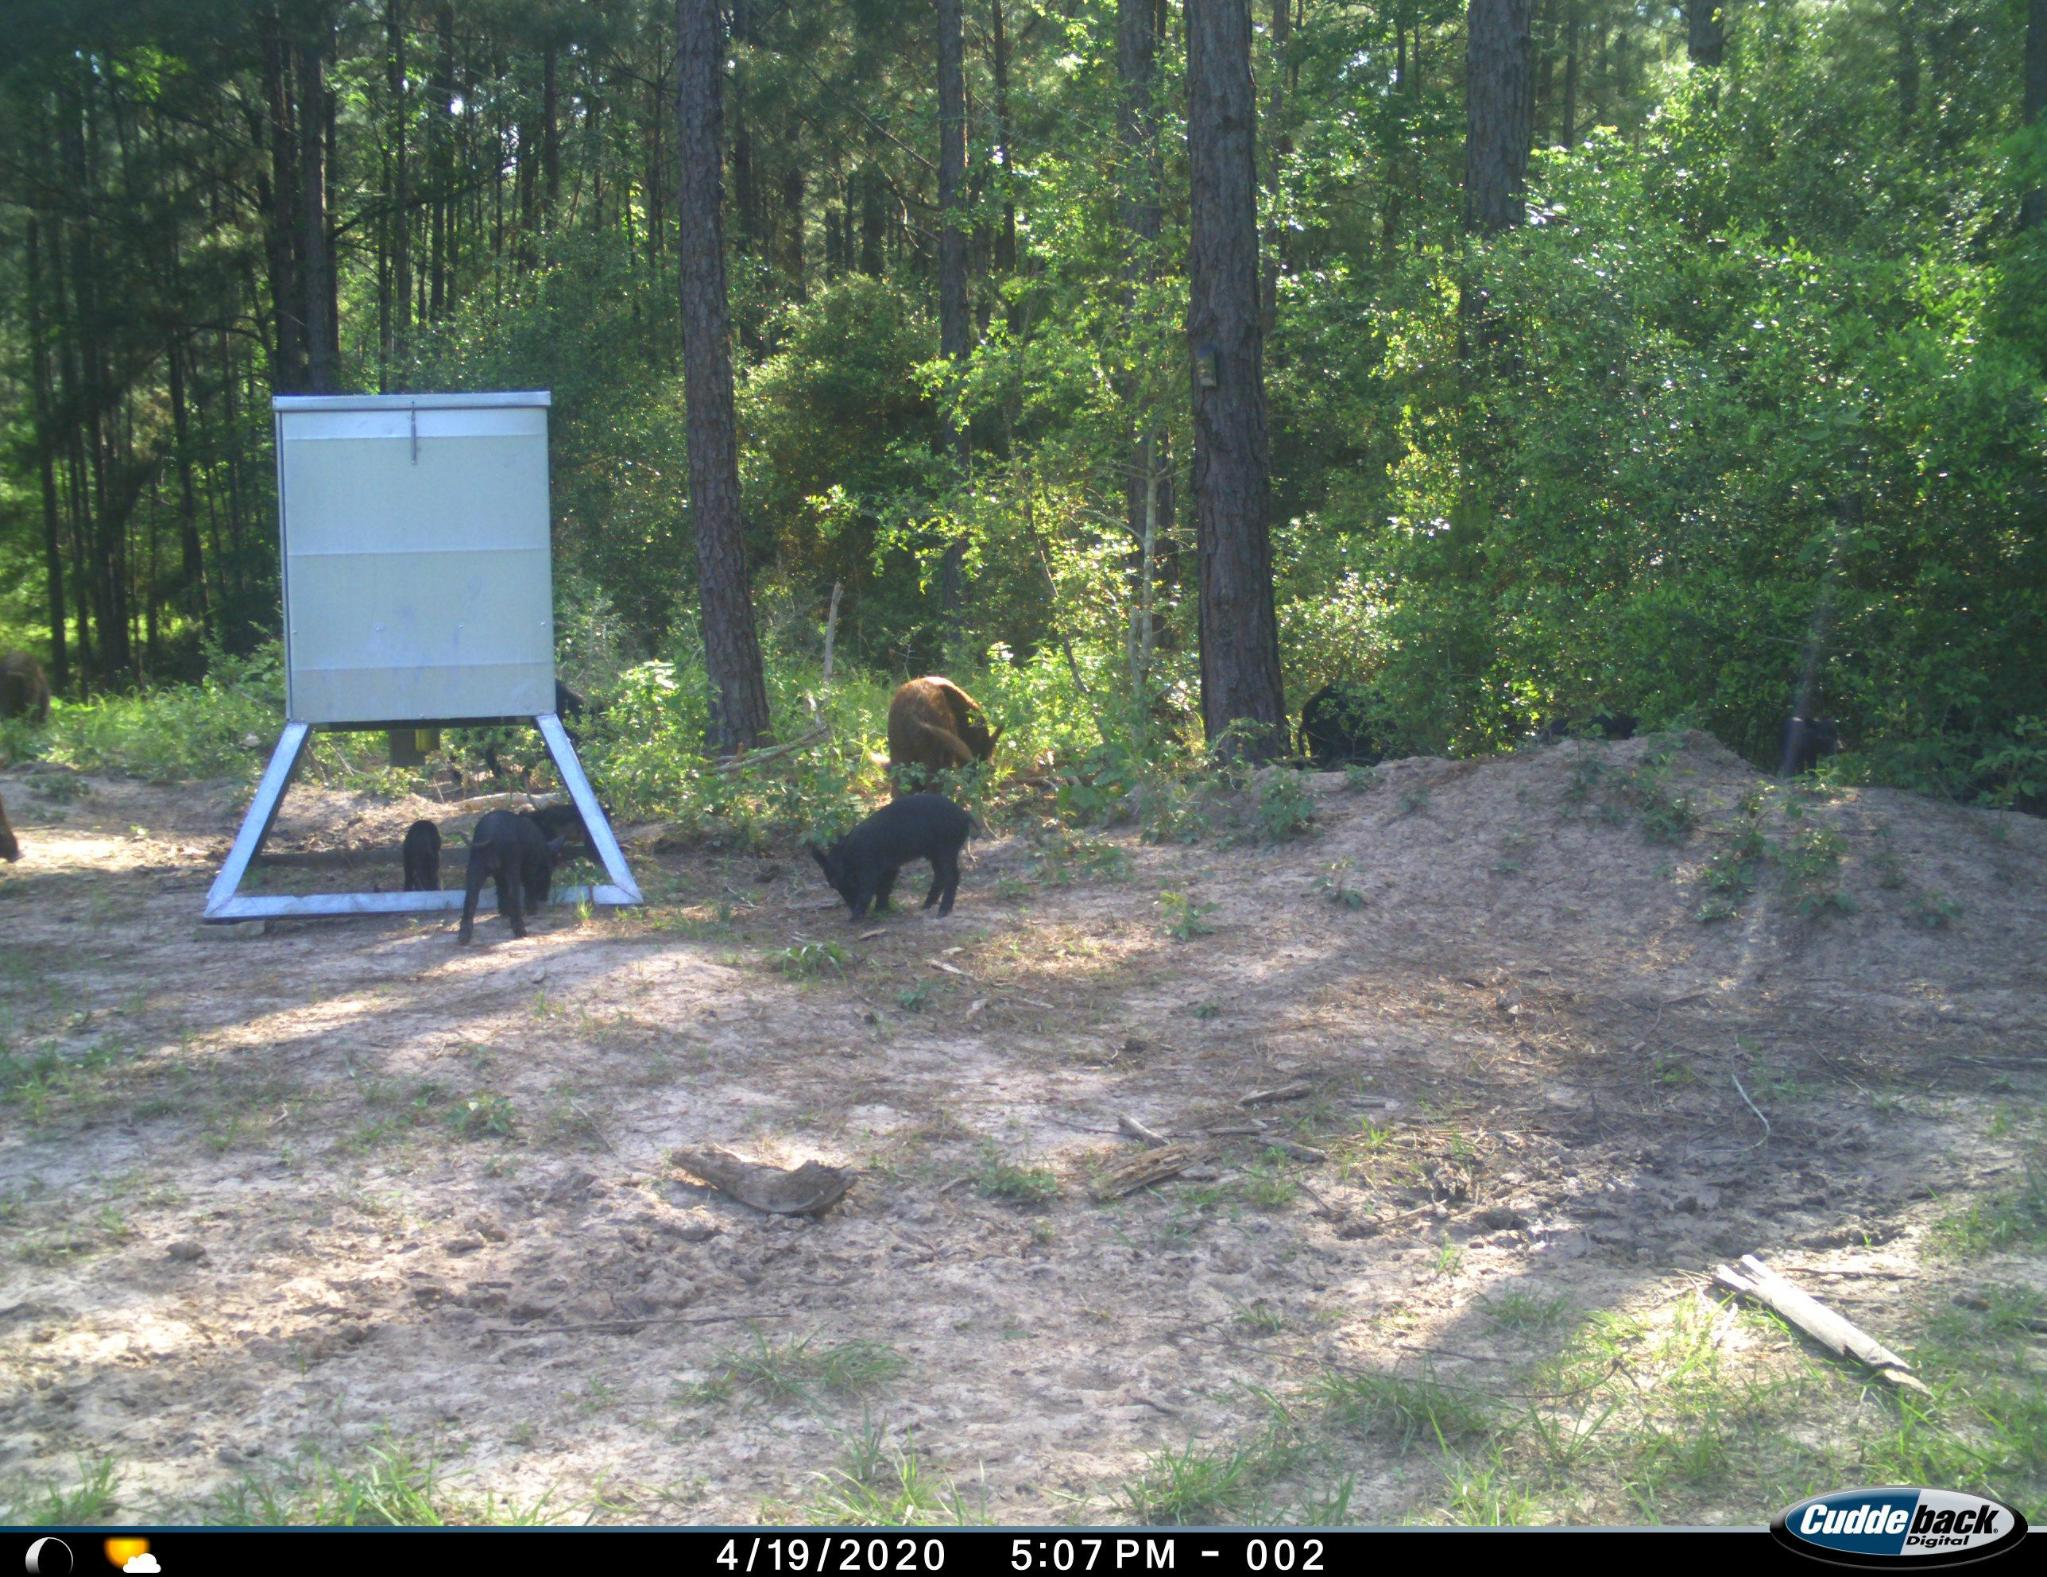Hog: (803, 784, 982, 924), (874, 666, 1012, 802), (455, 803, 568, 939)
